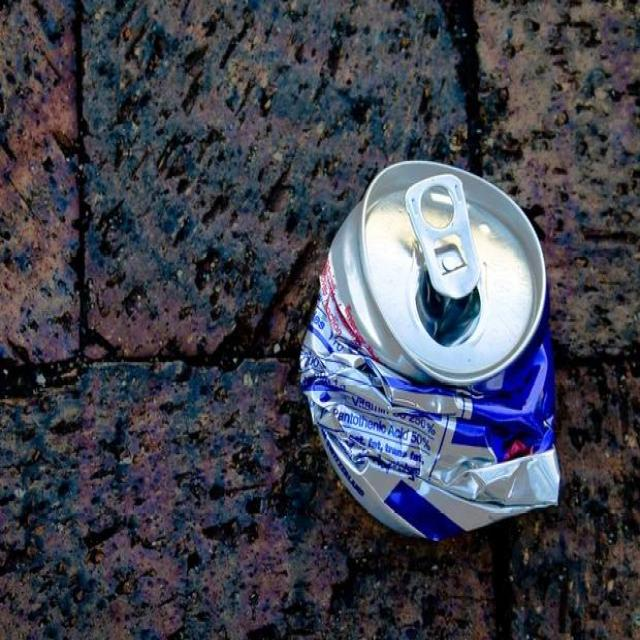can: (298, 159, 562, 542), (404, 174, 481, 300)
